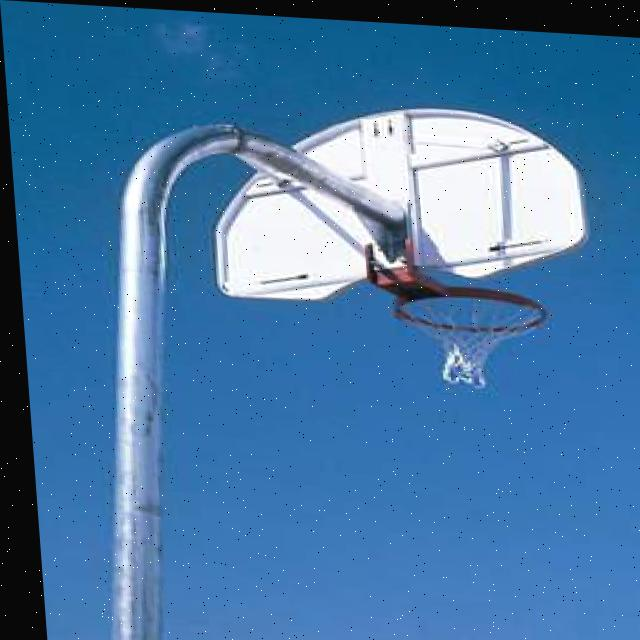hoop: (360, 253, 584, 431)
